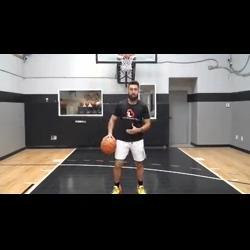BasketBall: (98, 133, 117, 155)
